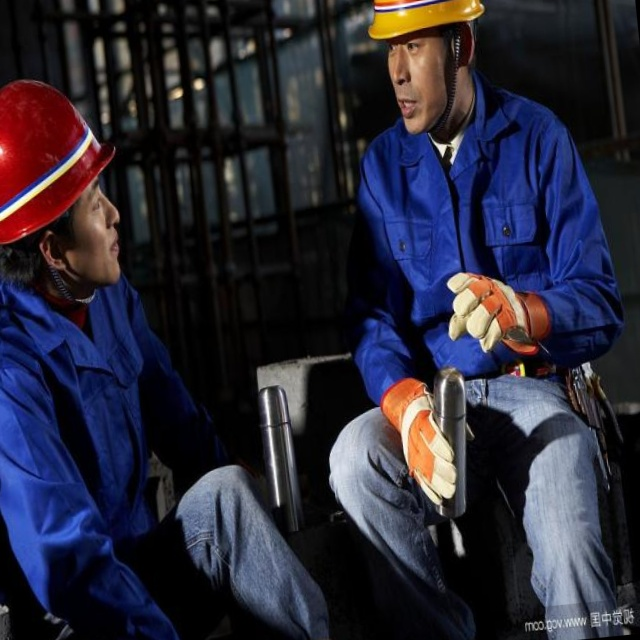Con_Casco: (0, 70, 124, 298), (357, 0, 490, 123)
